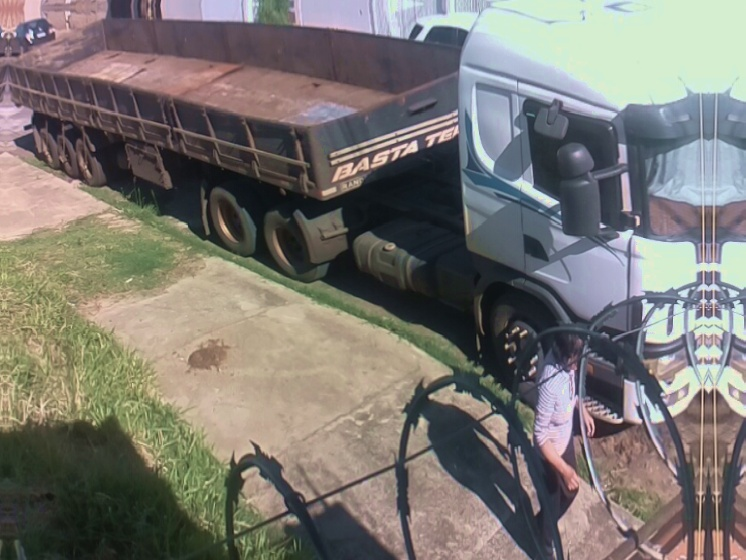person: (531, 332, 599, 560)
